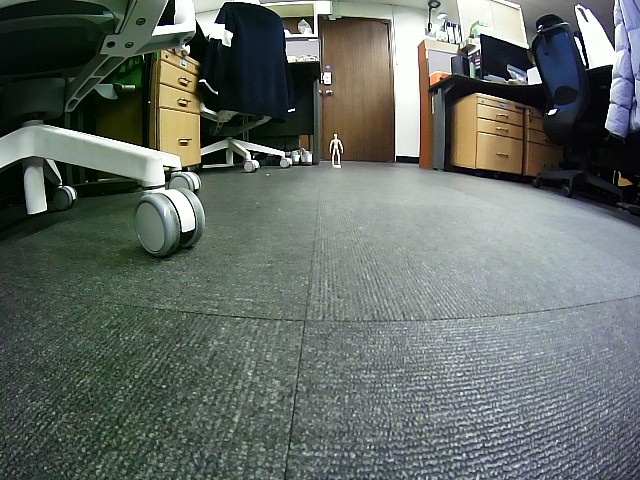person: (329, 134, 344, 165)
